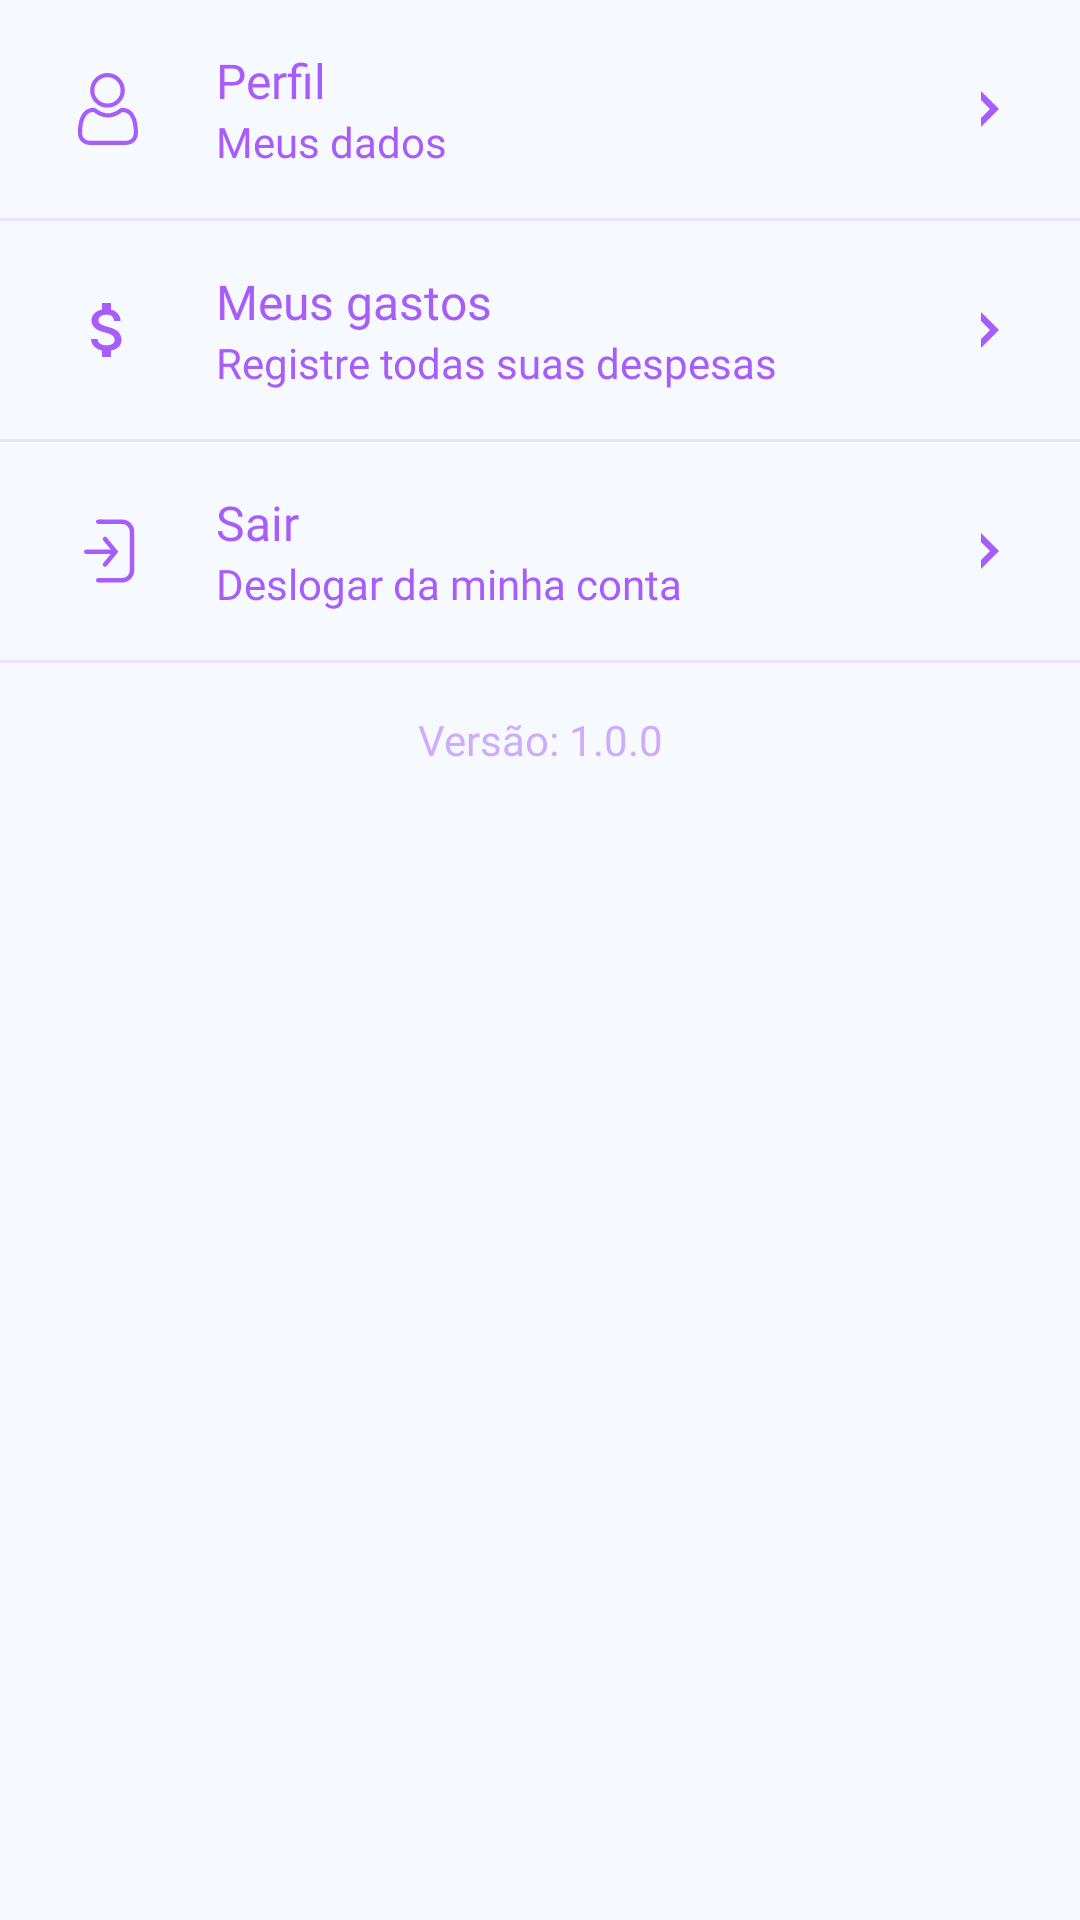

Icon click points for this 1080x1920 phone screenshot, format [x,y]:
finance: [106,330]
navigation: [990,109], [990,330], [990,551]
user: [108,109]
